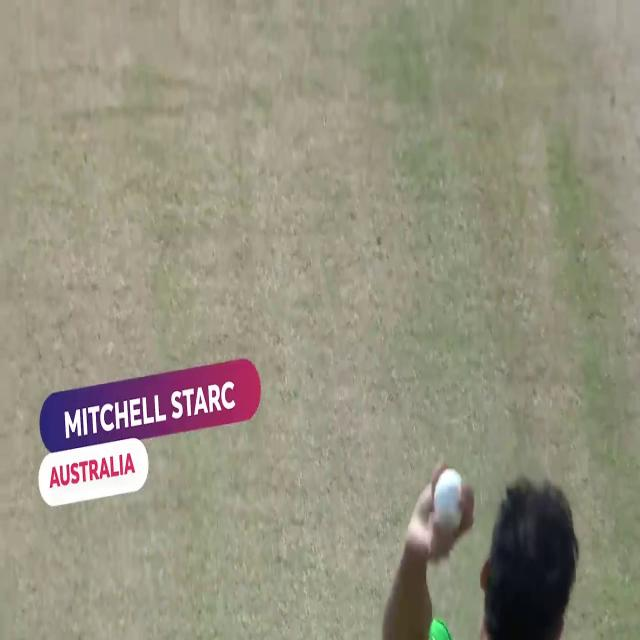ball: (408, 457, 478, 558)
